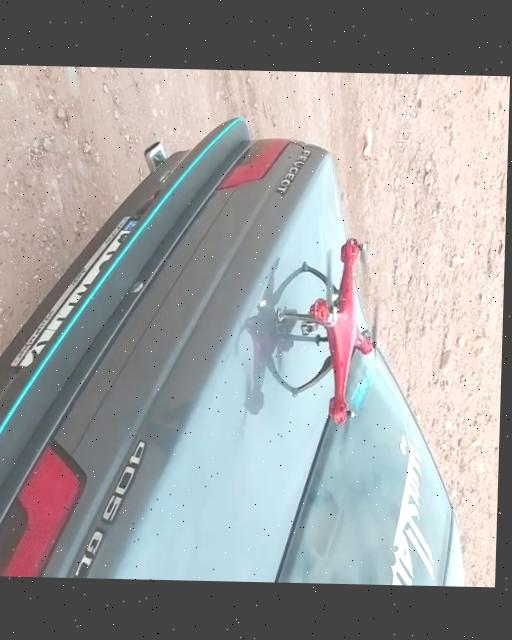drone: (278, 224, 387, 434)
